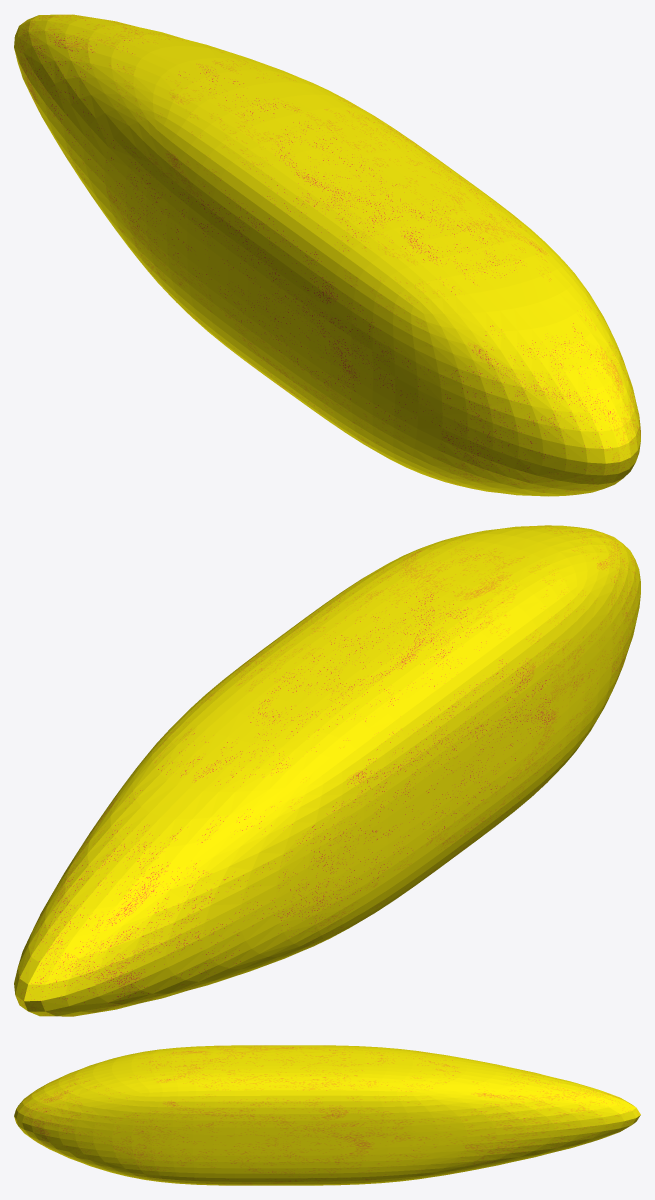
3 renders of one model, top to bottom at view 1: azimuth 30°, elevation 25°; view 2: azimuth 150°, elevation 25°; view 3: azimuth 270°, elevation 25°, orthographic. The views are drawn at different scales.
Visible parts, largest first — view 1: Laser; view 2: Laser; view 3: Laser.
Part boxes in pixels (x1=…): Laser: x1=14, y1=14, x2=640, y2=496; Laser: x1=14, y1=525, x2=640, y2=1016; Laser: x1=14, y1=1045, x2=640, y2=1185.
Size of the model in its own units: 0.601 by 0.6 by 3.03.
1 material, 1 textured.
